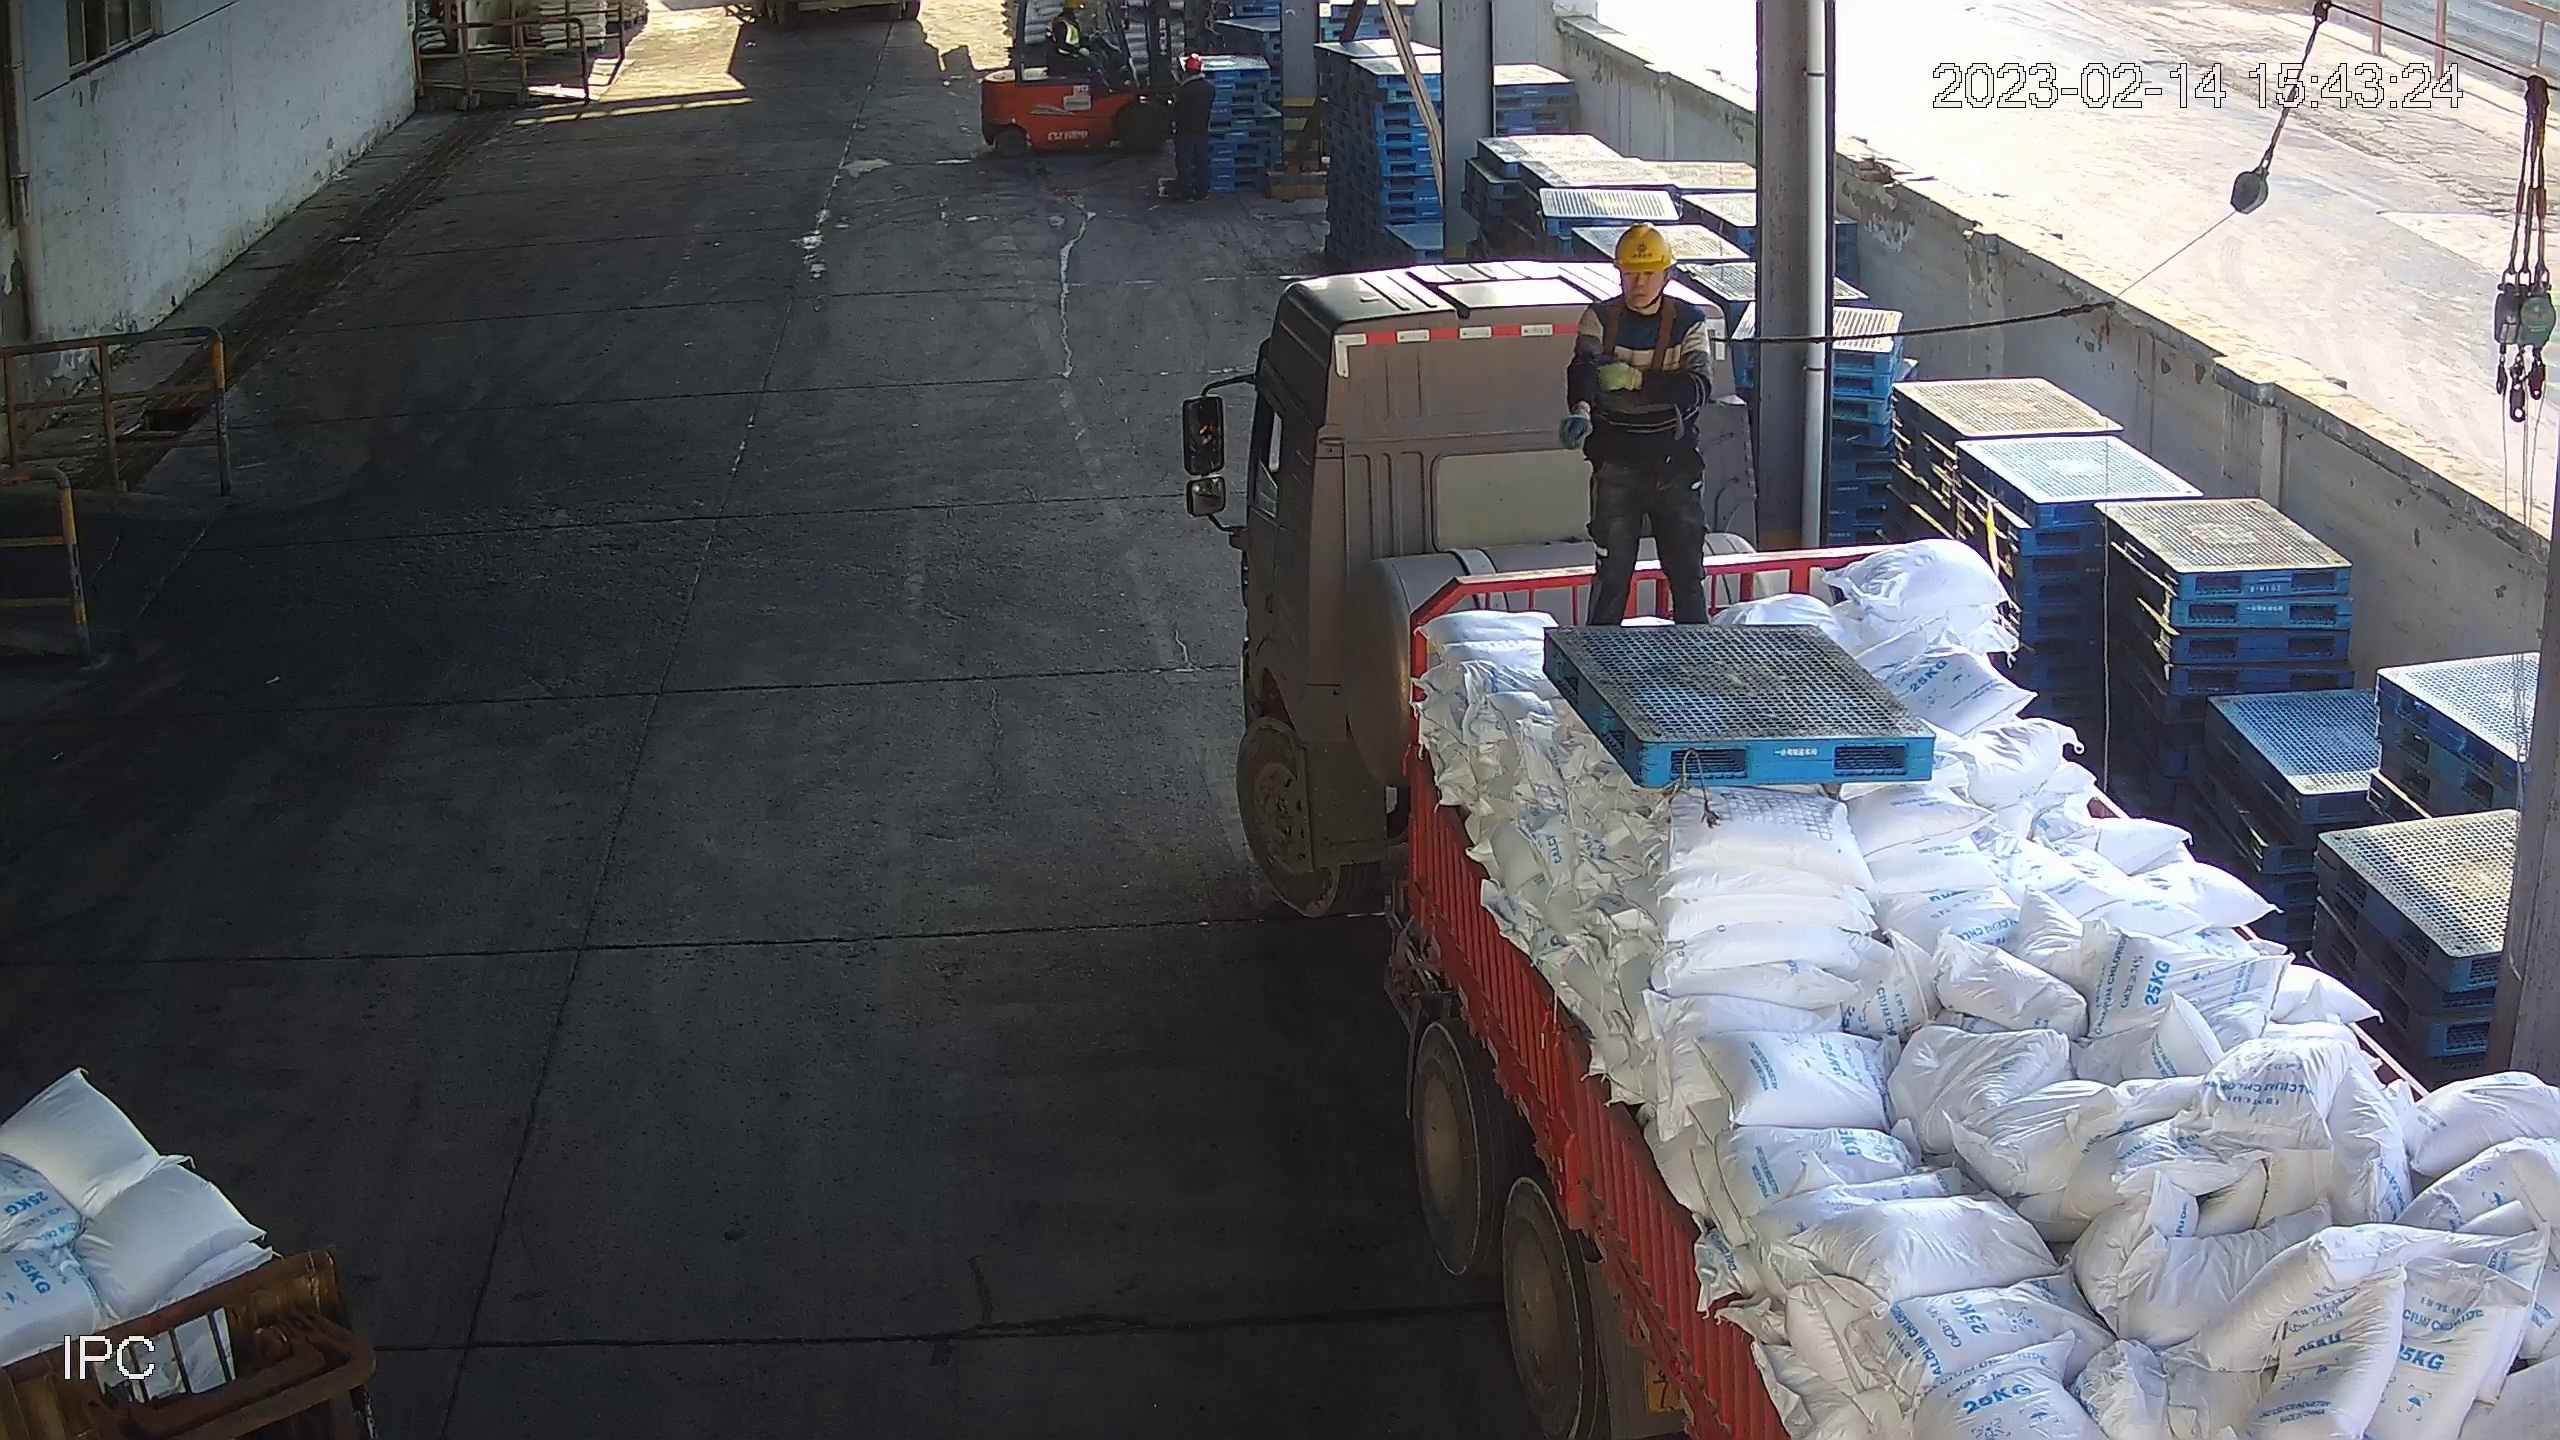belt: (1606, 311, 1684, 393)
head: (1588, 223, 1706, 332)
helmet: (1616, 225, 1670, 274)
people: (1558, 218, 1723, 625)
truck: (1184, 246, 2560, 1440)
